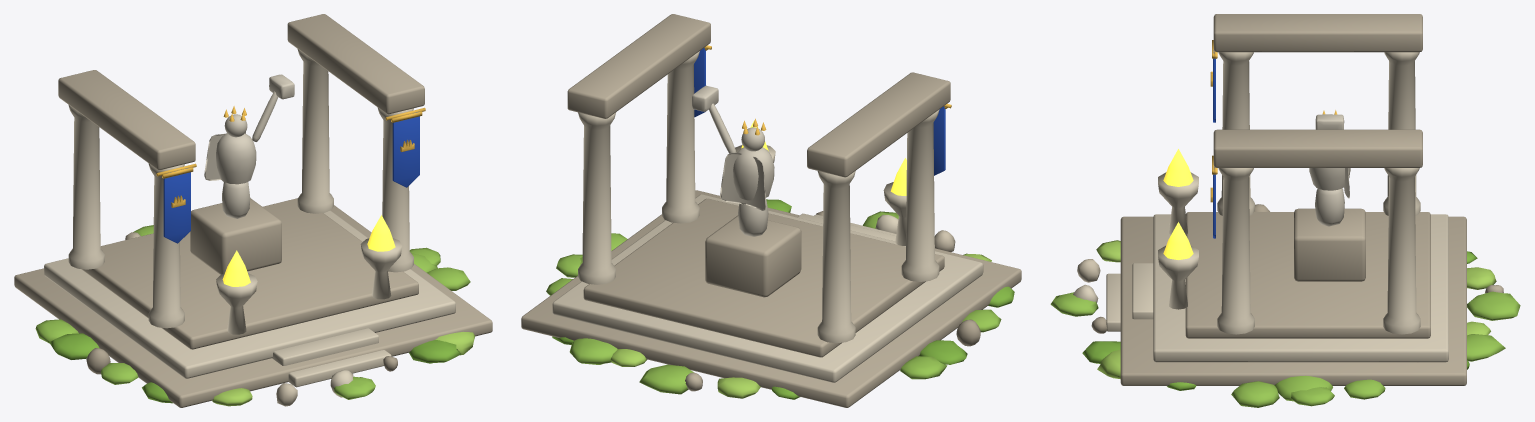
Rendered from b_altar.glb.
3 renders of one model, left to right at view 1: azimuth 30°, elevation 25°; view 2: azimuth 150°, elevation 25°; view 3: azimuth 270°, elevation 25°, orthographic. The views are drawn at different scales.
Visible parts, largest first — view 1: root_matte#b8ad98, root_matte#d6ccb6, root_matte#d2cab8, root_team, root_matte#94c252, root_matte#7fb243, root_glow#ffb43a, root_matte#a8d060, root_gold#f0bd4c, root_matte#a99e8a; view 2: root_matte#b8ad98, root_matte#d6ccb6, root_matte#d2cab8, root_matte#94c252, root_matte#7fb243, root_matte#a8d060, root_team, root_matte#a99e8a, root_glow#ffb43a; view 3: root_matte#b8ad98, root_matte#d6ccb6, root_matte#94c252, root_matte#d2cab8, root_matte#a8d060, root_glow#ffb43a, root_matte#7fb243, pebble20.
Boxes of the visible parts, <box> form: root_matte#b8ad98: <box>14,14,492,407</box>; root_matte#d6ccb6: <box>44,49,455,397</box>; root_matte#d2cab8: <box>204,74,294,218</box>; root_team: <box>163,112,419,243</box>; root_matte#94c252: <box>35,225,470,399</box>; root_matte#7fb243: <box>49,333,460,403</box>; root_glow#ffb43a: <box>222,215,395,286</box>; root_matte#a8d060: <box>212,332,474,406</box>; root_gold#f0bd4c: <box>156,106,425,207</box>; root_matte#a99e8a: <box>86,348,397,374</box>; root_matte#b8ad98: <box>521,14,1021,407</box>; root_matte#d6ccb6: <box>552,51,983,382</box>; root_matte#d2cab8: <box>692,85,774,236</box>; root_matte#94c252: <box>546,211,1001,394</box>; root_matte#7fb243: <box>552,199,1014,399</box>; root_matte#a8d060: <box>610,253,991,398</box>; root_team: <box>694,48,945,175</box>; root_matte#a99e8a: <box>816,211,980,346</box>; root_glow#ffb43a: <box>741,121,906,195</box>; root_matte#b8ad98: <box>1120,14,1503,385</box>; root_matte#d6ccb6: <box>1073,52,1448,362</box>; root_matte#94c252: <box>1050,291,1520,407</box>; root_matte#d2cab8: <box>1309,114,1350,226</box>; root_matte#a8d060: <box>1096,240,1496,379</box>; root_glow#ffb43a: <box>1163,149,1193,259</box>; root_matte#7fb243: <box>1082,251,1477,390</box>; pebble20: <box>1077,259,1100,282</box>.
Size of the model in its own units: 3.21 by 1.81 by 3.26.
